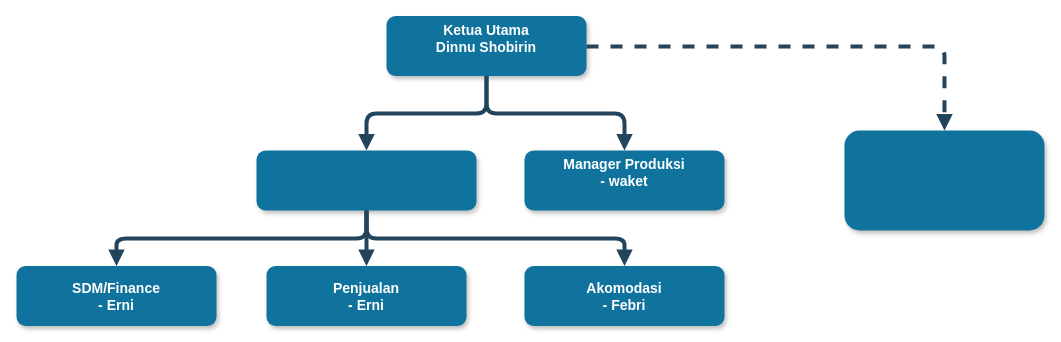
Image size: 1061x342. Some labels were removed from this diagram. Here are the shapes that lost their labels. From the top down, the centre of each, then its label:
the point at 367,181: Ketua Kordinasi Bp. Sobirin
the point at 945,181: Komisaris - Mas Iskandar - Mas Aves
